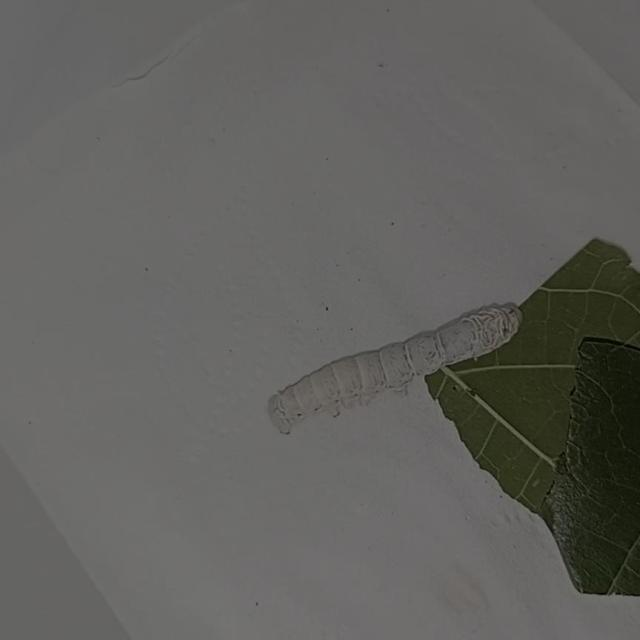Healthy: (245, 289, 538, 430)
